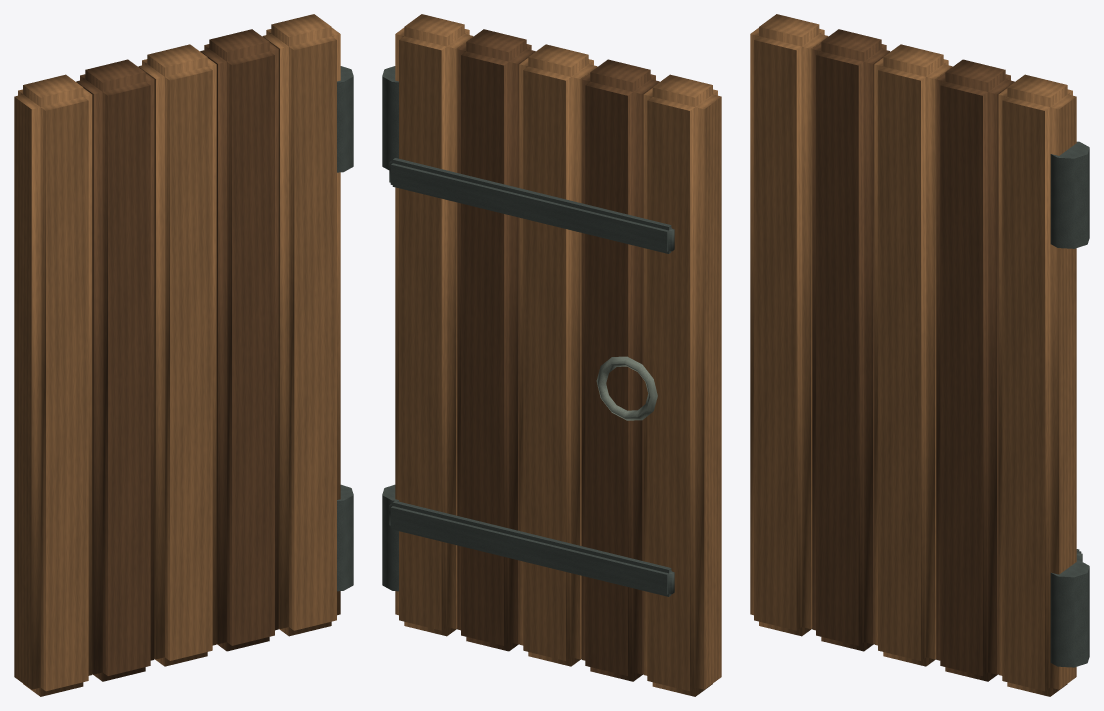
File: oak-door.fbx
The picture shows the model from 3 angles, left to right: view 1: azimuth 30°, elevation 25°; view 2: azimuth 150°, elevation 25°; view 3: azimuth 330°, elevation 25°; orthographic projection.
Visible parts, largest first — view 1: oak-door__Geometry; view 2: oak-door__Geometry; view 3: oak-door__Geometry.
Part boxes in pixels (box(x1,y1,x2,y2)): oak-door__Geometry: box(14, 14, 353, 696); oak-door__Geometry: box(382, 14, 721, 696); oak-door__Geometry: box(750, 14, 1089, 696).
Size of the model in its own units: 0.953 by 1.66 by 0.224.
